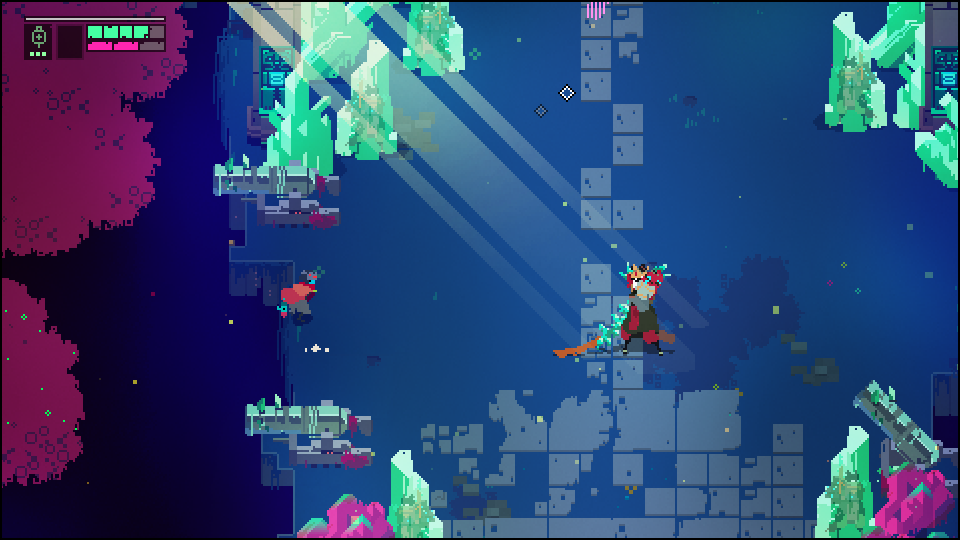hanged_man: (561, 259, 670, 356)
player: (279, 272, 320, 320)
